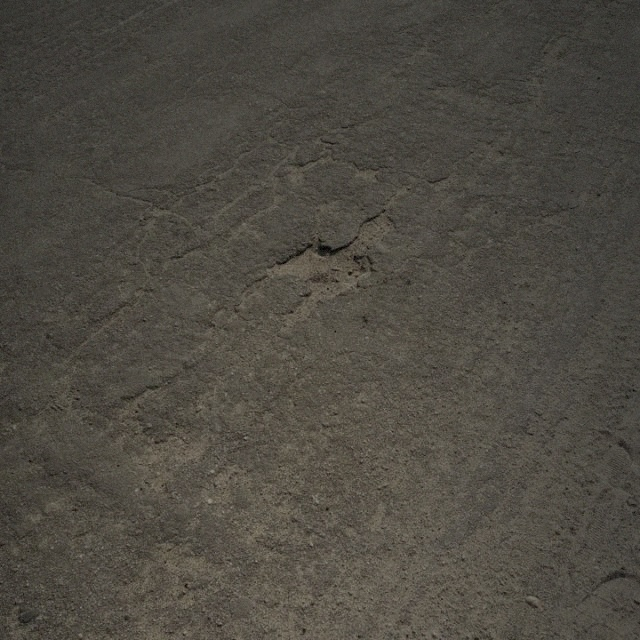pothole: (261, 239, 378, 301), (356, 209, 398, 240)
